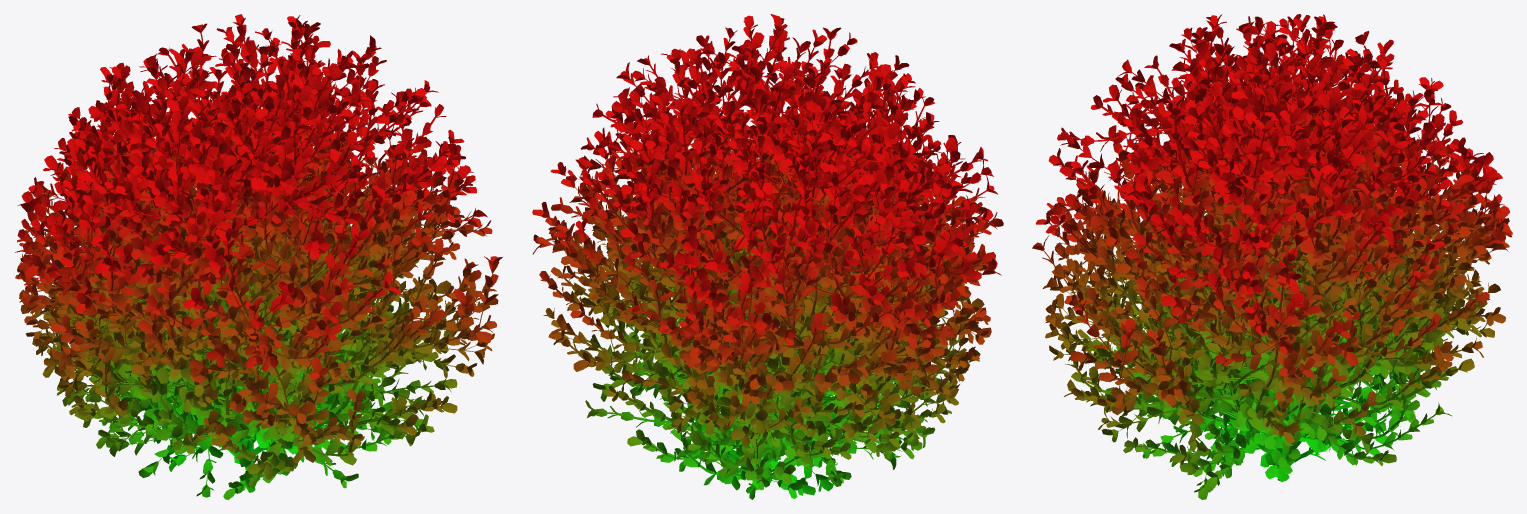
Rendered from Var4_LOD2.fbx.
3 renders of one model, left to right at view 1: azimuth 30°, elevation 25°; view 2: azimuth 150°, elevation 25°; view 3: azimuth 270°, elevation 25°, orthographic.
Visible parts, largest first — view 1: _7lol_Var4_LOD2; view 2: _7lol_Var4_LOD2; view 3: _7lol_Var4_LOD2.
Part boxes in pixels (bbox=[...]): _7lol_Var4_LOD2: bbox=[15, 14, 502, 499]; _7lol_Var4_LOD2: bbox=[532, 14, 1003, 499]; _7lol_Var4_LOD2: bbox=[1032, 14, 1512, 499].
Bounding box in the file's own units: 78.54 × 79.16 × 76.41.
